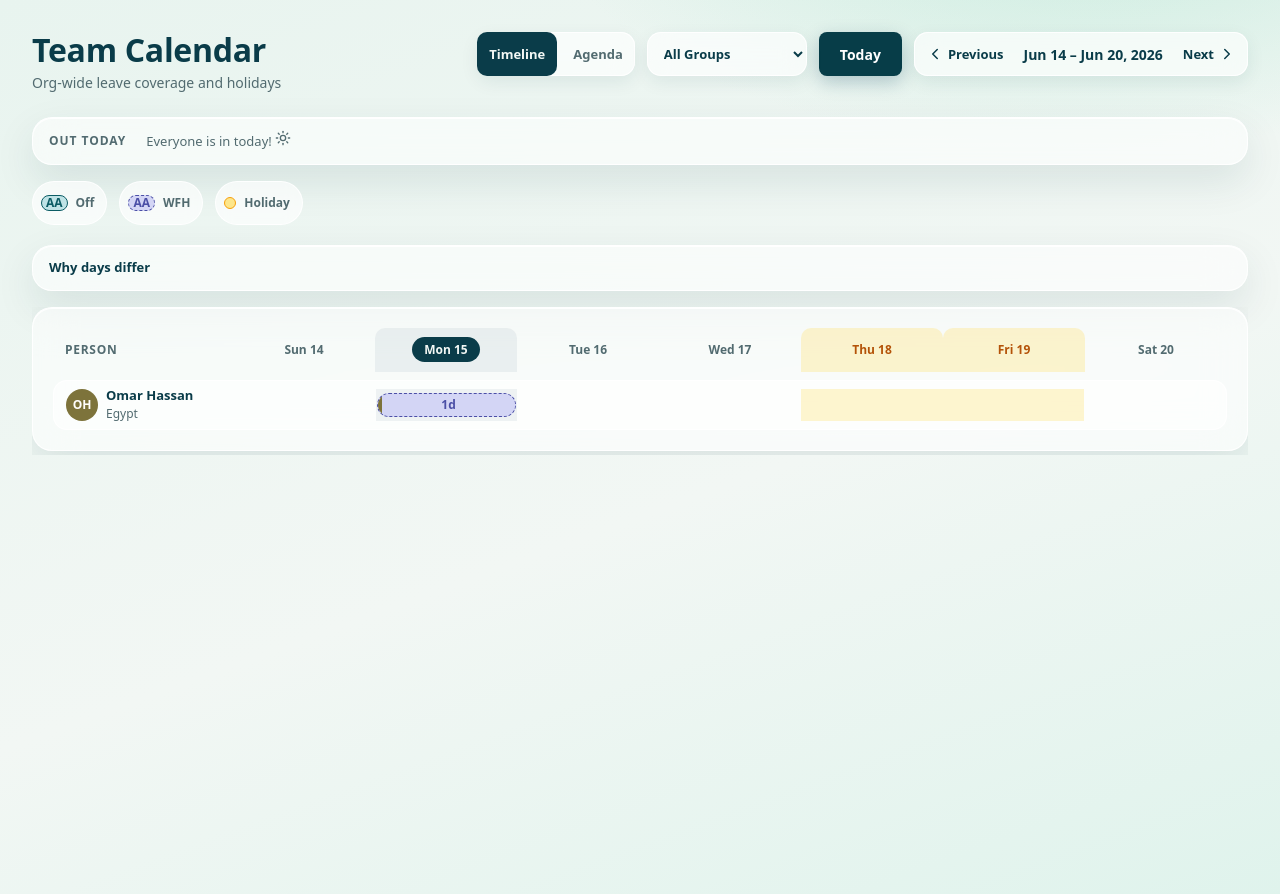
Test: TeamCalendarPage › [P0] switches to Agenda and refetches with yyyy-MM when navigating months
Expected: the element with test id "calendar-timeline" is shown, [32, 307, 1248, 455]
Click the button "Agenda": point(598, 54) [561, 32, 635, 76]
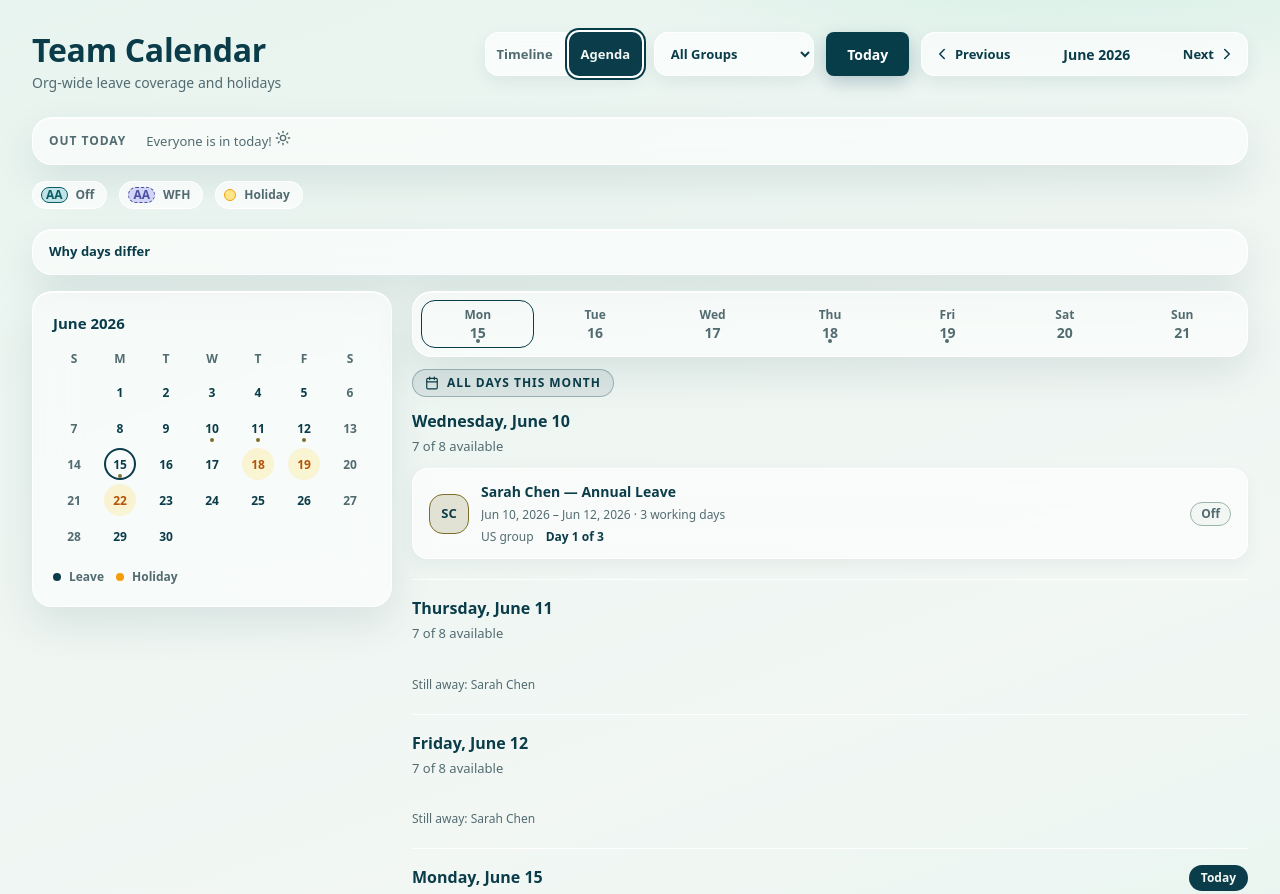
Expected: the element with test id "calendar-mini-month" shows "June 2026", [53, 313, 125, 333]
Click the button with test id "calendar-next-month": point(1209, 54) [1171, 32, 1248, 76]
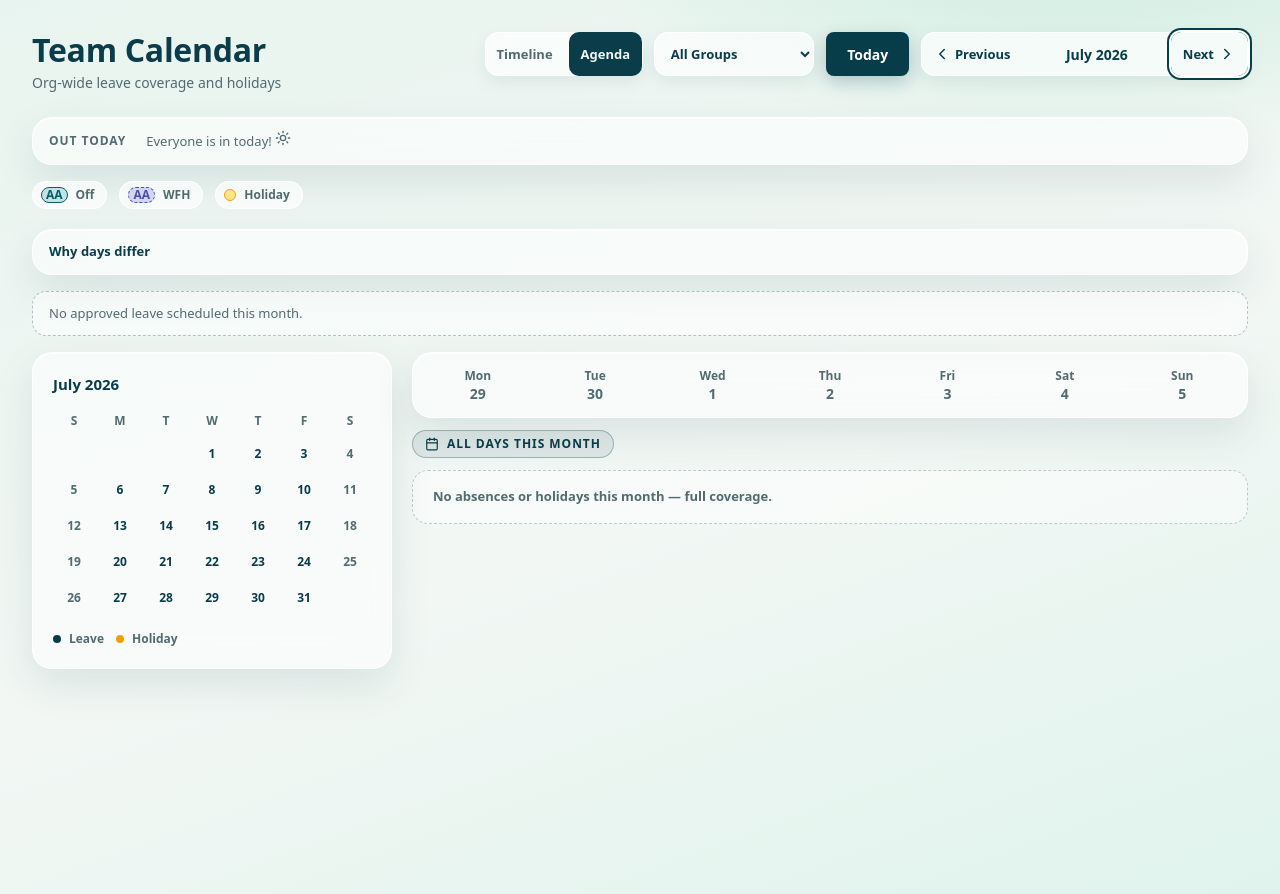
Expected: the element with test id "calendar-mini-month" shows "July 2026", [53, 374, 119, 394]
